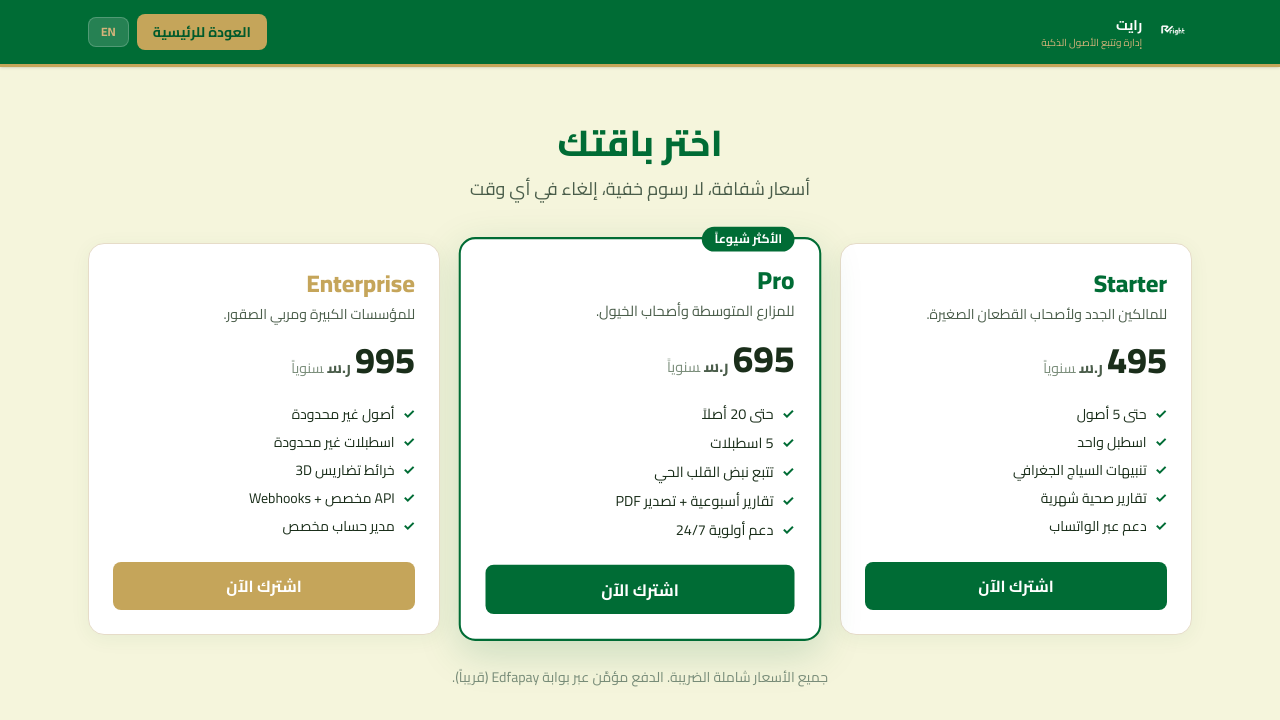
Test: SubscribePage — handleSubscribe (create-payment flow) › shows a setup-pending message when the gateway reports requires_setup
Click the button "اشترك الآن" below "دعم عبر الواتساب": (1016, 586) top-left (865, 562), bottom-right (1167, 610)
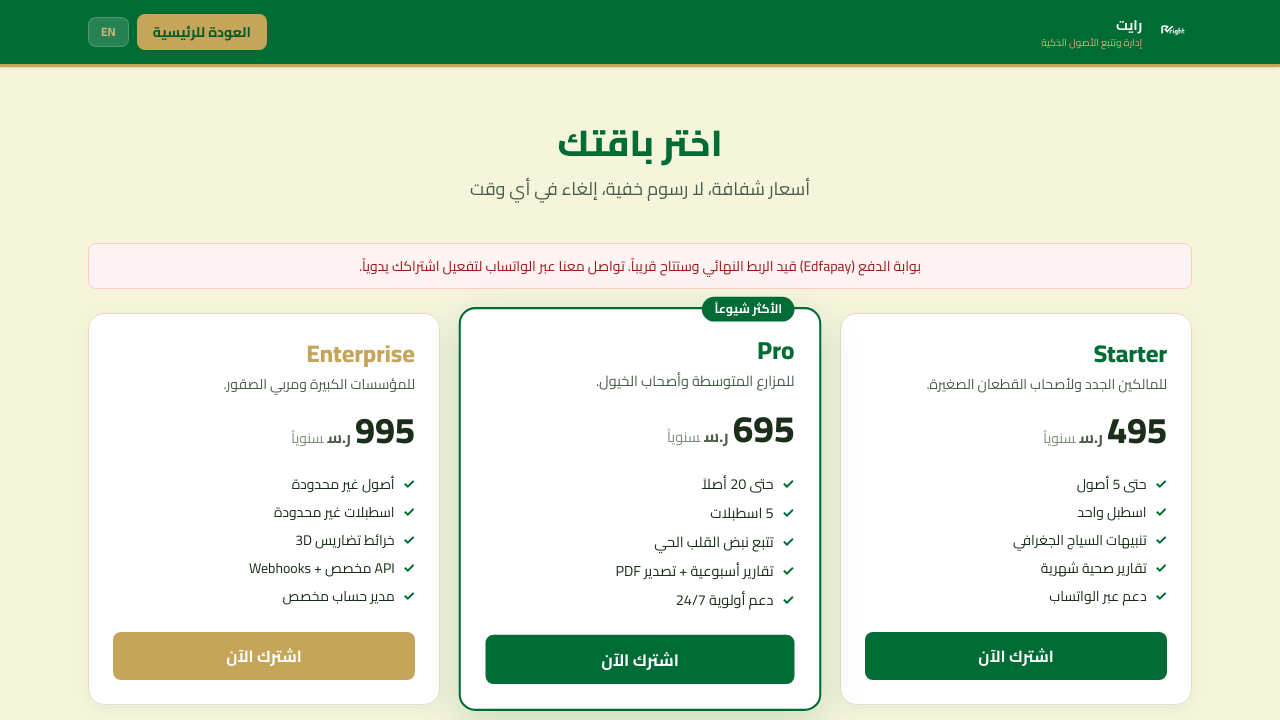
Now the text "قيد الربط النهائي" is shown, box top-left (359, 253), bottom-right (921, 279)
